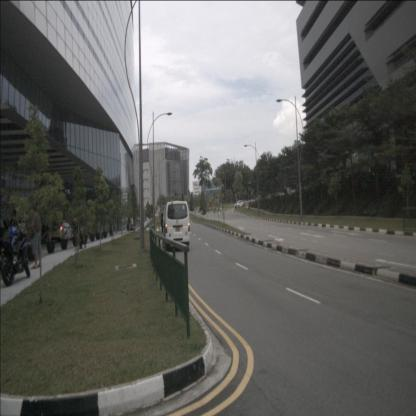human-pedestrian-adult: (29, 202, 42, 269), (160, 213, 166, 249), (130, 216, 134, 232)
vehicle-car: (164, 200, 190, 251), (51, 219, 76, 242), (235, 200, 244, 209)
vehicle-motorcycle: (0, 226, 30, 286)
